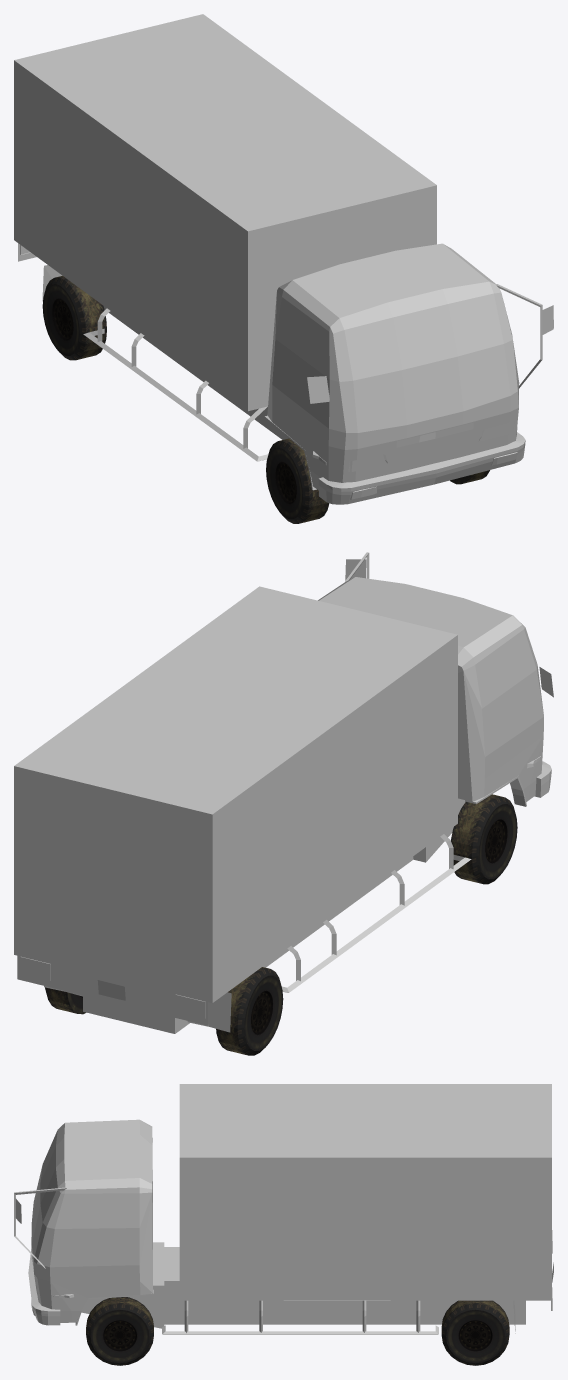
Rendered from car1.fbx.
3 views of the same model, one above another, from view 1: azimuth 30°, elevation 25°; view 2: azimuth 150°, elevation 25°; view 3: azimuth 270°, elevation 25° (orthographic). The views are drawn at different scales.
Visible parts, largest first — view 1: Tire2, Tire3; view 2: Tire2, Tire3; view 3: Tire2, Tire3.
Part boxes in pixels (x1,y1,x2,y2): Tire2: (14, 14, 553, 504); Tire3: (42, 276, 489, 523); Tire2: (14, 552, 553, 1033); Tire3: (45, 794, 517, 1055); Tire2: (14, 1084, 553, 1334); Tire3: (86, 1297, 509, 1365).
Size of the model in its own units: 26717 by 30299 by 70814.
